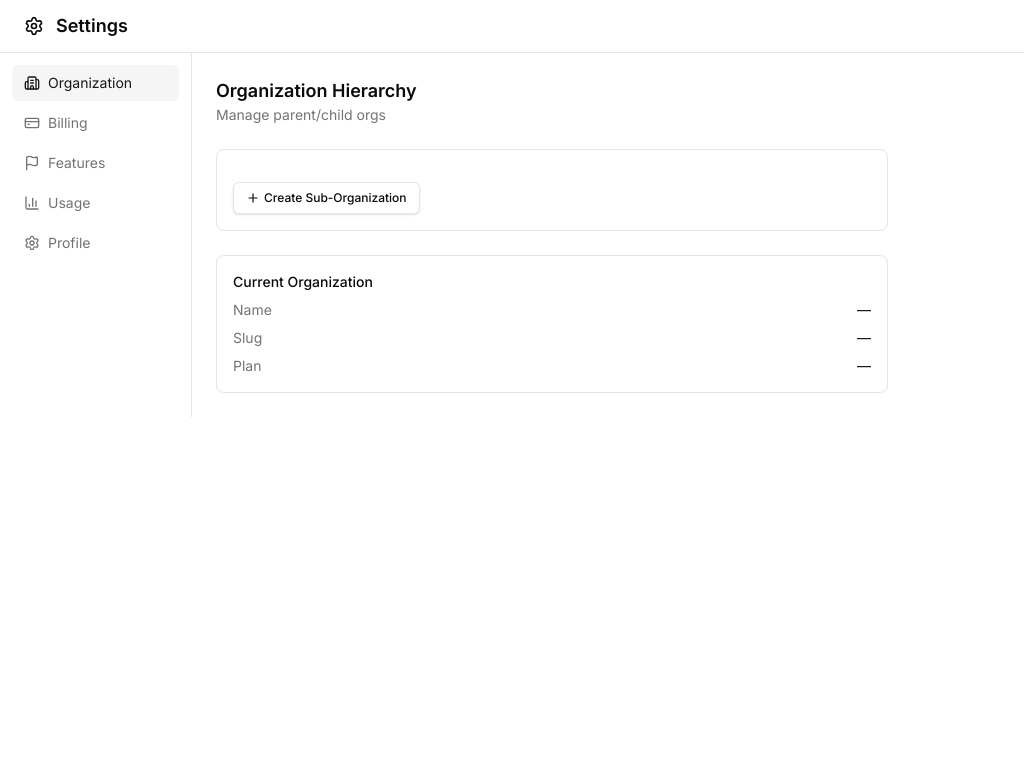
it: SettingsPage › switches to billing tab
Click the button "Billing". click: (96, 123)
box: [12,105,179,141]
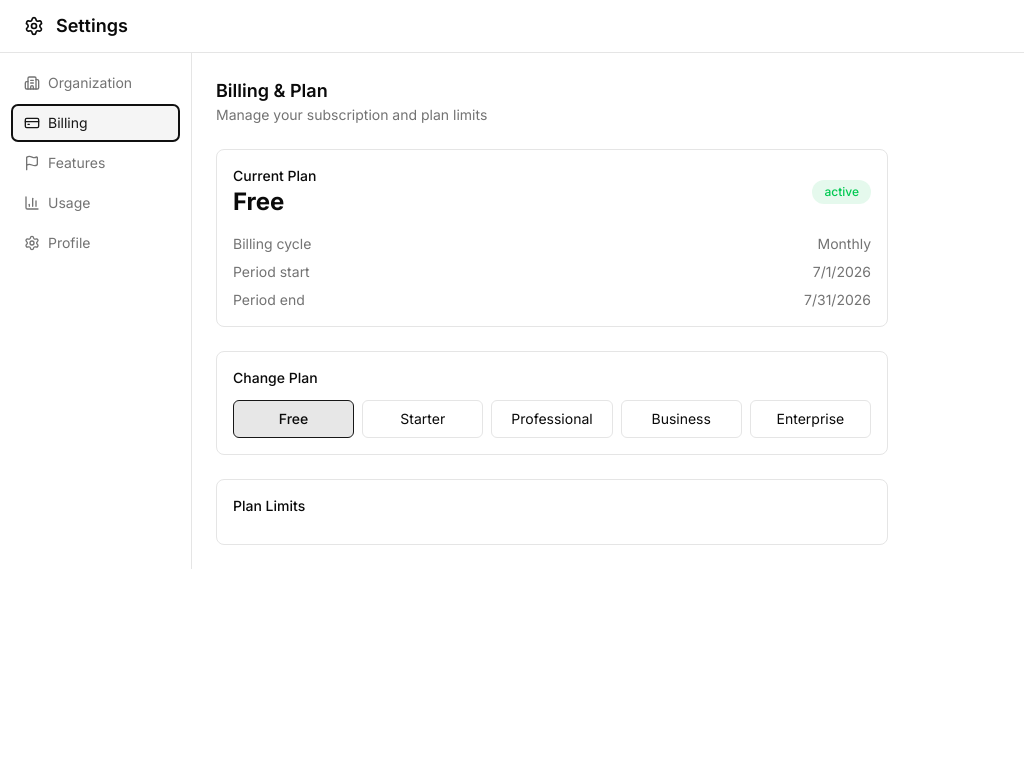
Expected: the text "Current Plan" is shown, [233,166,316,186]
